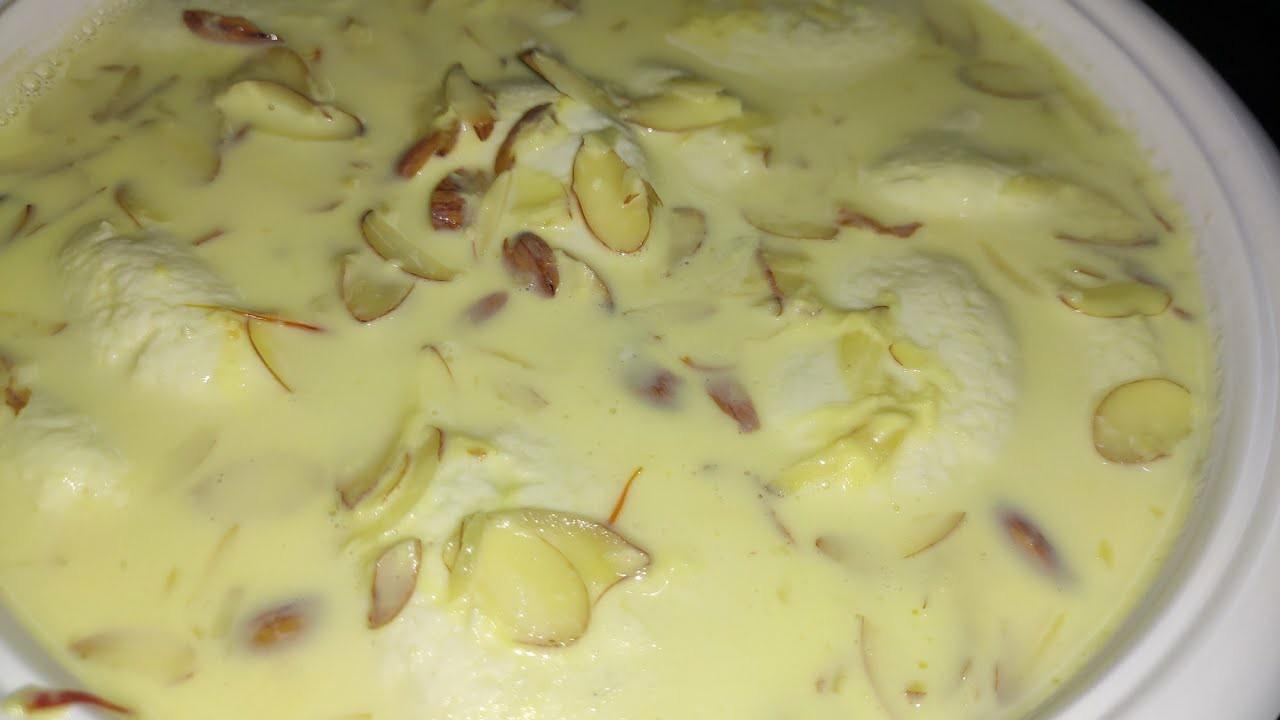RasMalai: (0, 0, 1205, 720)
